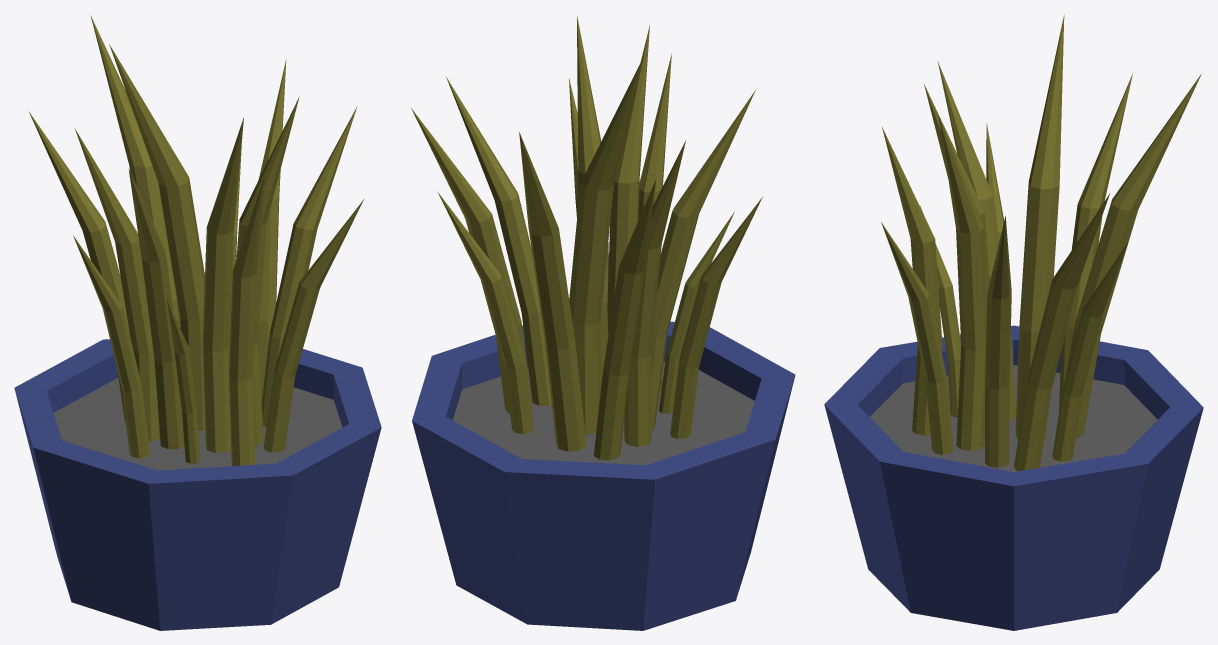
Rendered from Flower_57.fbx.
3 renders of one model, left to right at view 1: azimuth 30°, elevation 25°; view 2: azimuth 150°, elevation 25°; view 3: azimuth 270°, elevation 25°, orthographic. The views are drawn at different scales.
Parts seen in each view (by area): view 1: Flower_57; view 2: Flower_57; view 3: Flower_57.
Boxes of the visible parts, bbox=[...] form: Flower_57: bbox=[14, 15, 381, 630]; Flower_57: bbox=[411, 16, 795, 630]; Flower_57: bbox=[824, 15, 1203, 630].
Size of the model in its own units: 70.38 by 70.37 by 107.
